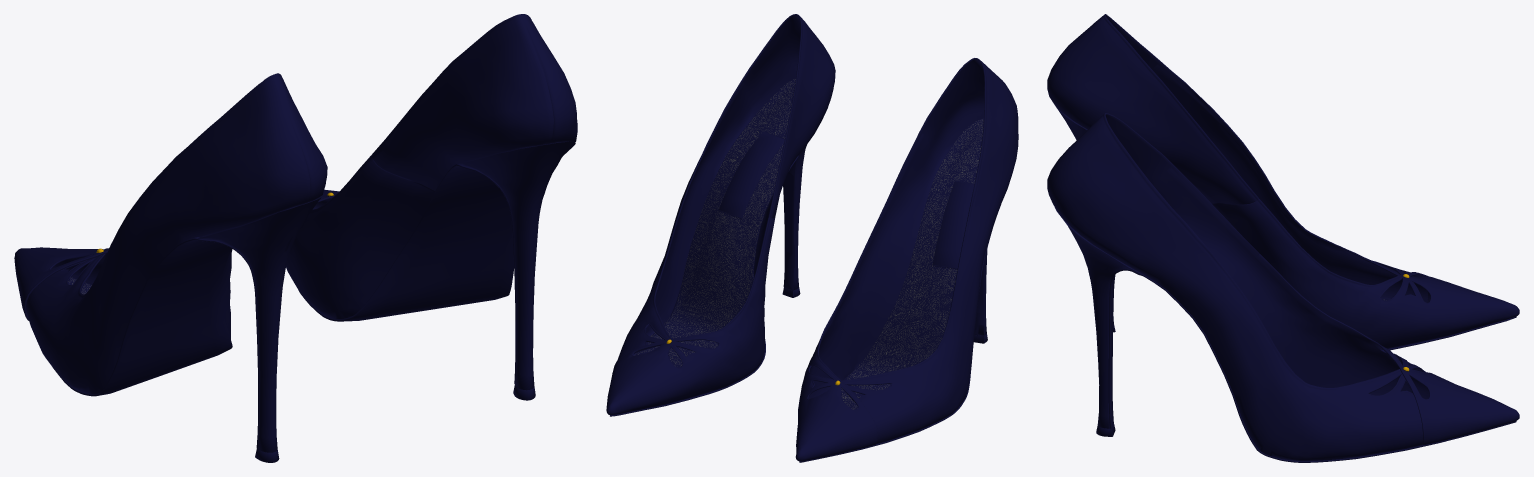
The model's file is lady_shoe.dae.
The picture shows the model from 3 angles, left to right: view 1: azimuth 30°, elevation 25°; view 2: azimuth 150°, elevation 25°; view 3: azimuth 270°, elevation 25°; orthographic projection. The views are drawn at different scales.
Parts seen in each view (by area): view 1: Component_108, Component_107; view 2: Component_107 (×3), Component_108 (×3); view 3: Component_108, Component_107.
Part boxes in pixels (x1,y1,x2,y2): Component_108: (286,14,577,400); Component_107: (14,73,327,462); Component_107 (×3): (795,58,1018,462); Component_108 (×3): (606,14,835,416); Component_108: (1047,113,1519,462); Component_107: (1047,14,1519,350).
Size of the model in its own units: 16.25 by 18.95 by 14.03.
